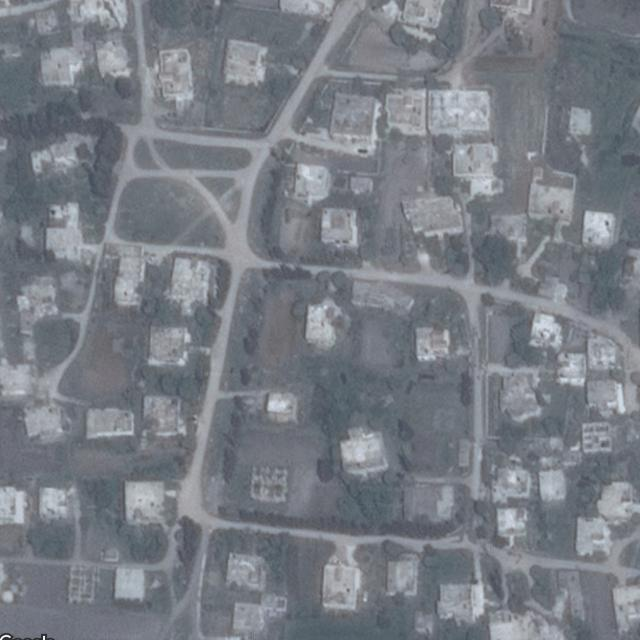damaged_building: (301, 296, 345, 354)
